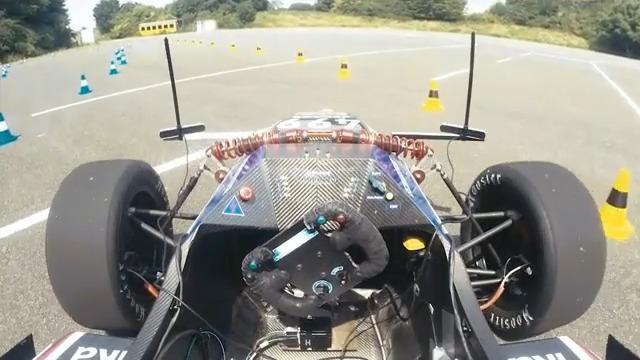blue_cone: (0, 111, 20, 150), (79, 75, 93, 95), (109, 60, 120, 76)
yellow_cone: (591, 169, 637, 240), (422, 79, 446, 113), (337, 57, 353, 79)
